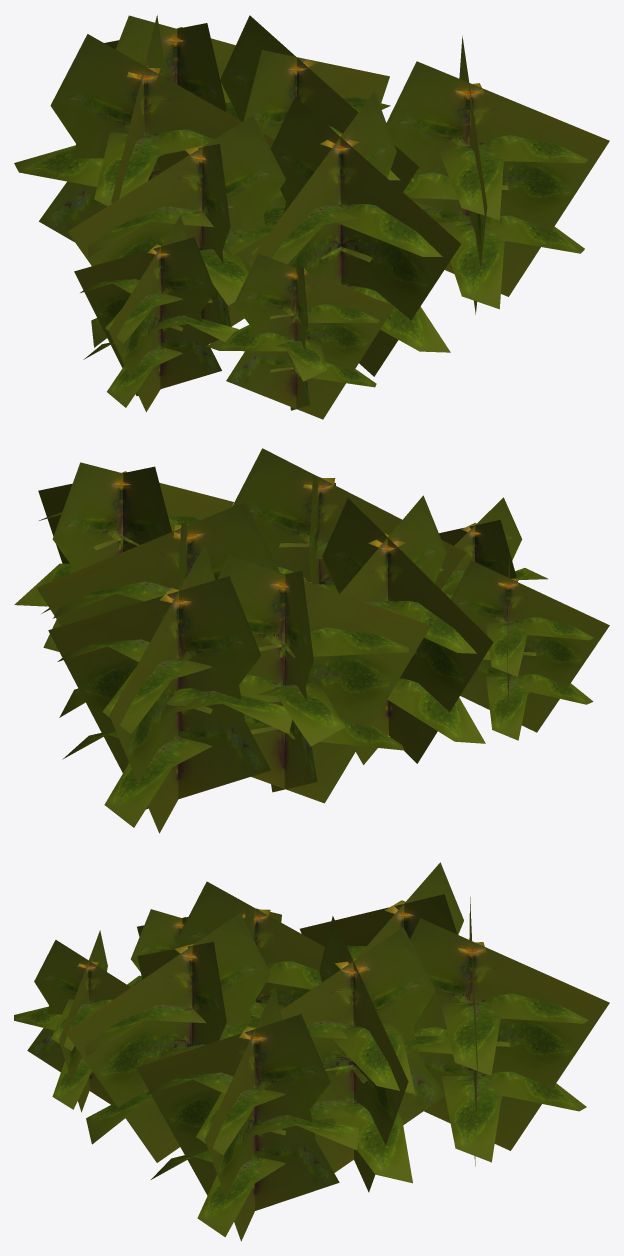
File: forest_grass3.fbx
3 renders of one model, top to bottom at view 1: azimuth 30°, elevation 25°; view 2: azimuth 150°, elevation 25°; view 3: azimuth 270°, elevation 25°, orthographic. The views are drawn at different scales.
Parts seen in each view (by area): view 1: StaticMeshActor_24_StaticMeshComponent0; view 2: StaticMeshActor_24_StaticMeshComponent0; view 3: StaticMeshActor_24_StaticMeshComponent0.
Part boxes in pixels (x1,y1,x2,y2): StaticMeshActor_24_StaticMeshComponent0: (14,15,609,419); StaticMeshActor_24_StaticMeshComponent0: (14,448,609,833); StaticMeshActor_24_StaticMeshComponent0: (14,862,609,1241).
Bounding box in the file's own units: 6.52 × 3.06 × 6.8.
